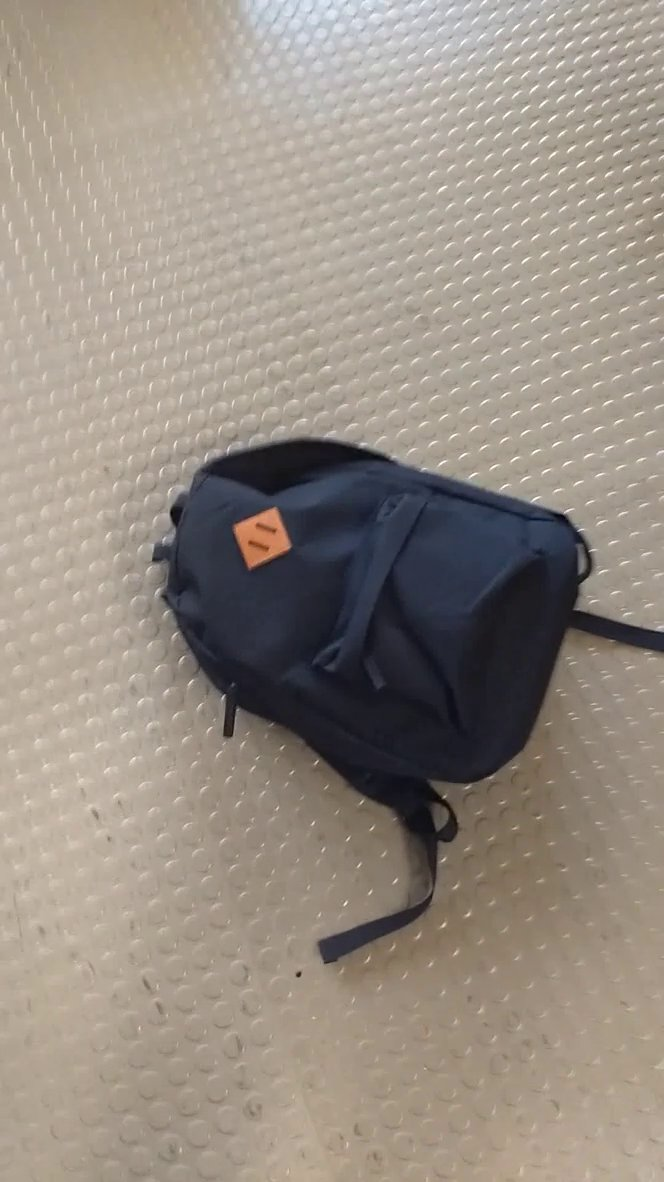bag: (139, 430, 664, 973)
